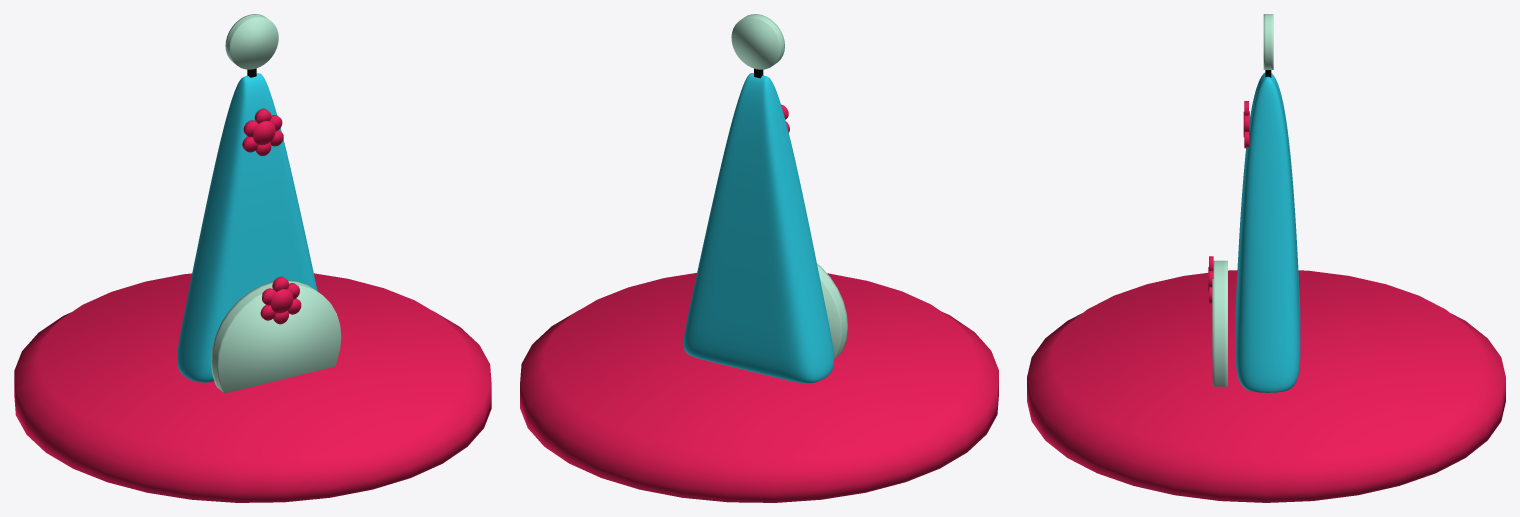
The model's file is Body.gltf.
3 views of the same model, side by side, from view 1: azimuth 30°, elevation 25°; view 2: azimuth 150°, elevation 25°; view 3: azimuth 270°, elevation 25° (orthographic).
Parts seen in each view (by area): view 1: bottom, body, rotation, emoticon, flower 2, flower; view 2: bottom, body, emoticon, rotation; view 3: bottom, body, rotation, emoticon.
Part boxes in pixels (x1,y1,x2,y2): bottom: [14, 273, 491, 502]; body: [177, 73, 317, 382]; rotation: [211, 280, 341, 393]; emoticon: [225, 14, 278, 69]; flower 2: [242, 108, 283, 156]; flower: [260, 276, 301, 324]; bottom: [520, 273, 998, 502]; body: [683, 73, 834, 383]; emoticon: [731, 14, 784, 69]; rotation: [817, 263, 847, 358]; bottom: [1027, 270, 1505, 502]; body: [1235, 72, 1300, 392]; rotation: [1212, 260, 1227, 386]; emoticon: [1263, 14, 1273, 69].
Size of the model in its own units: 2.16 by 1.91 by 2.16.
